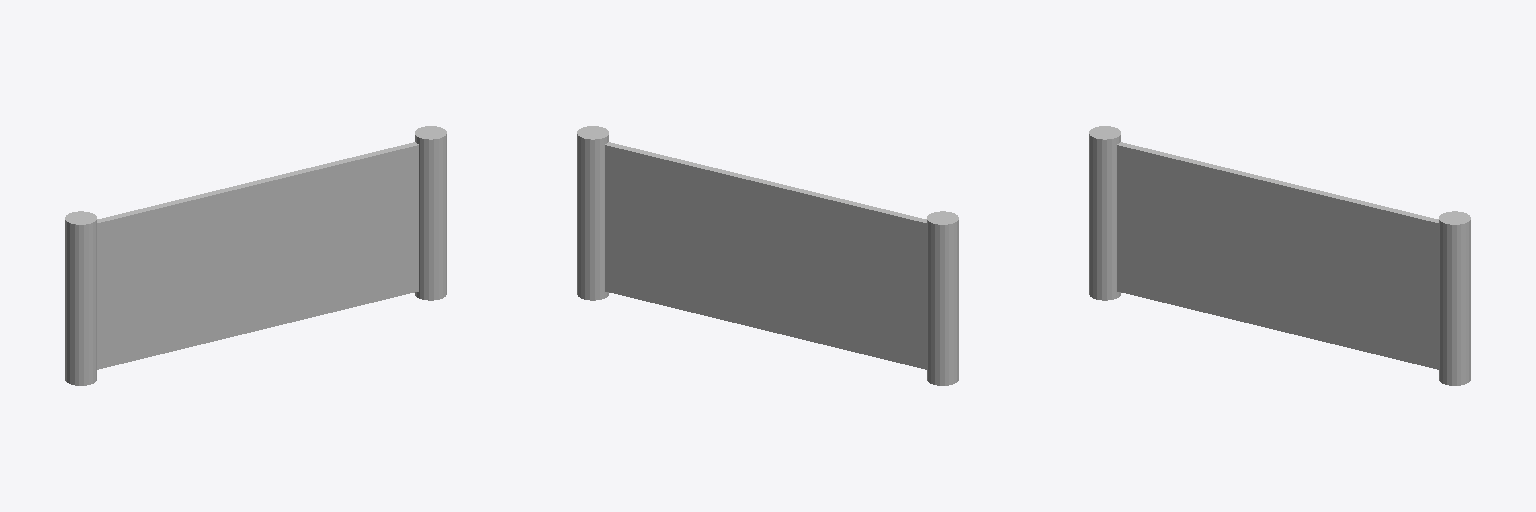
The model's file is Gantry.obj.
The picture shows the model from 3 angles: view 1: azimuth 30°, elevation 25°; view 2: azimuth 150°, elevation 25°; view 3: azimuth 330°, elevation 25°; orthographic projection.
Visible parts, largest first — view 1: pCube1, pCylinder2, pCylinder1; view 2: pCube1, pCylinder2, pCylinder1; view 3: pCube1, pCylinder1, pCylinder2.
Part boxes in pixels (left/top/right/bottom): pCube1: left=97, top=142, right=418, bottom=369; pCylinder2: left=65, top=211, right=96, bottom=385; pCylinder1: left=415, top=126, right=446, bottom=300; pCube1: left=605, top=142, right=926, bottom=369; pCylinder2: left=927, top=211, right=958, bottom=385; pCylinder1: left=577, top=126, right=608, bottom=300; pCube1: left=1117, top=142, right=1438, bottom=369; pCylinder1: left=1439, top=211, right=1470, bottom=385; pCylinder2: left=1089, top=126, right=1120, bottom=300.
Size of the model in its own units: 5.4 by 2.2 by 0.4.